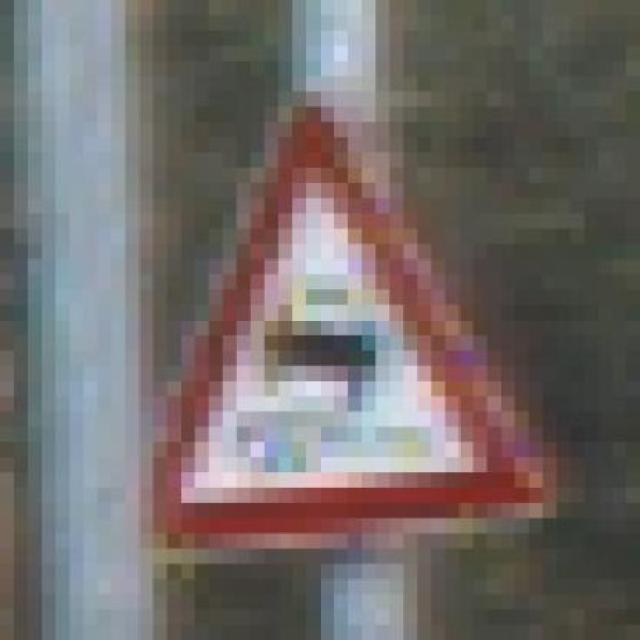Slippery Road Ahead: (97, 76, 557, 579)
